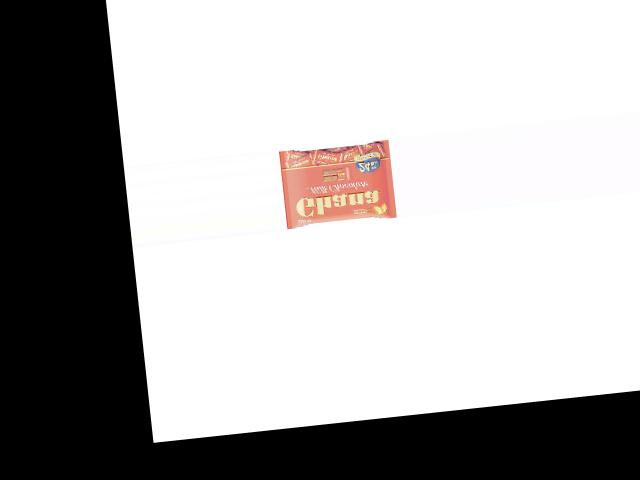chocolate: (280, 136, 398, 227)
